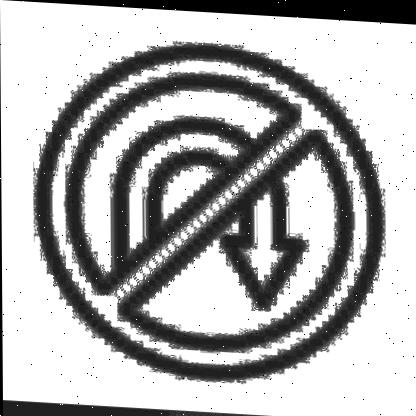No U-turn: (31, 37, 384, 390)
